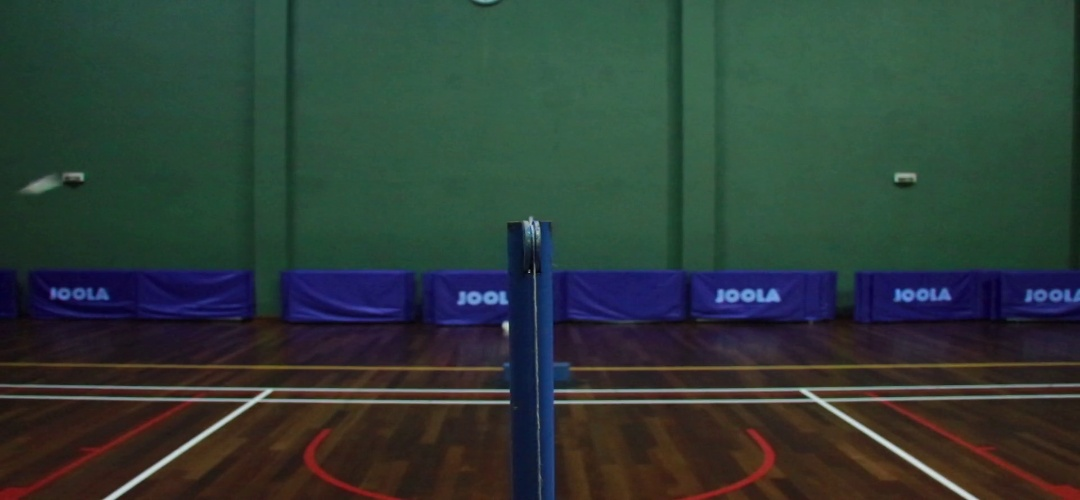c1: (235, 391, 274, 410)
c2: (795, 392, 848, 410)
net_level: (507, 221, 554, 290)
shuttle: (15, 171, 58, 201)
